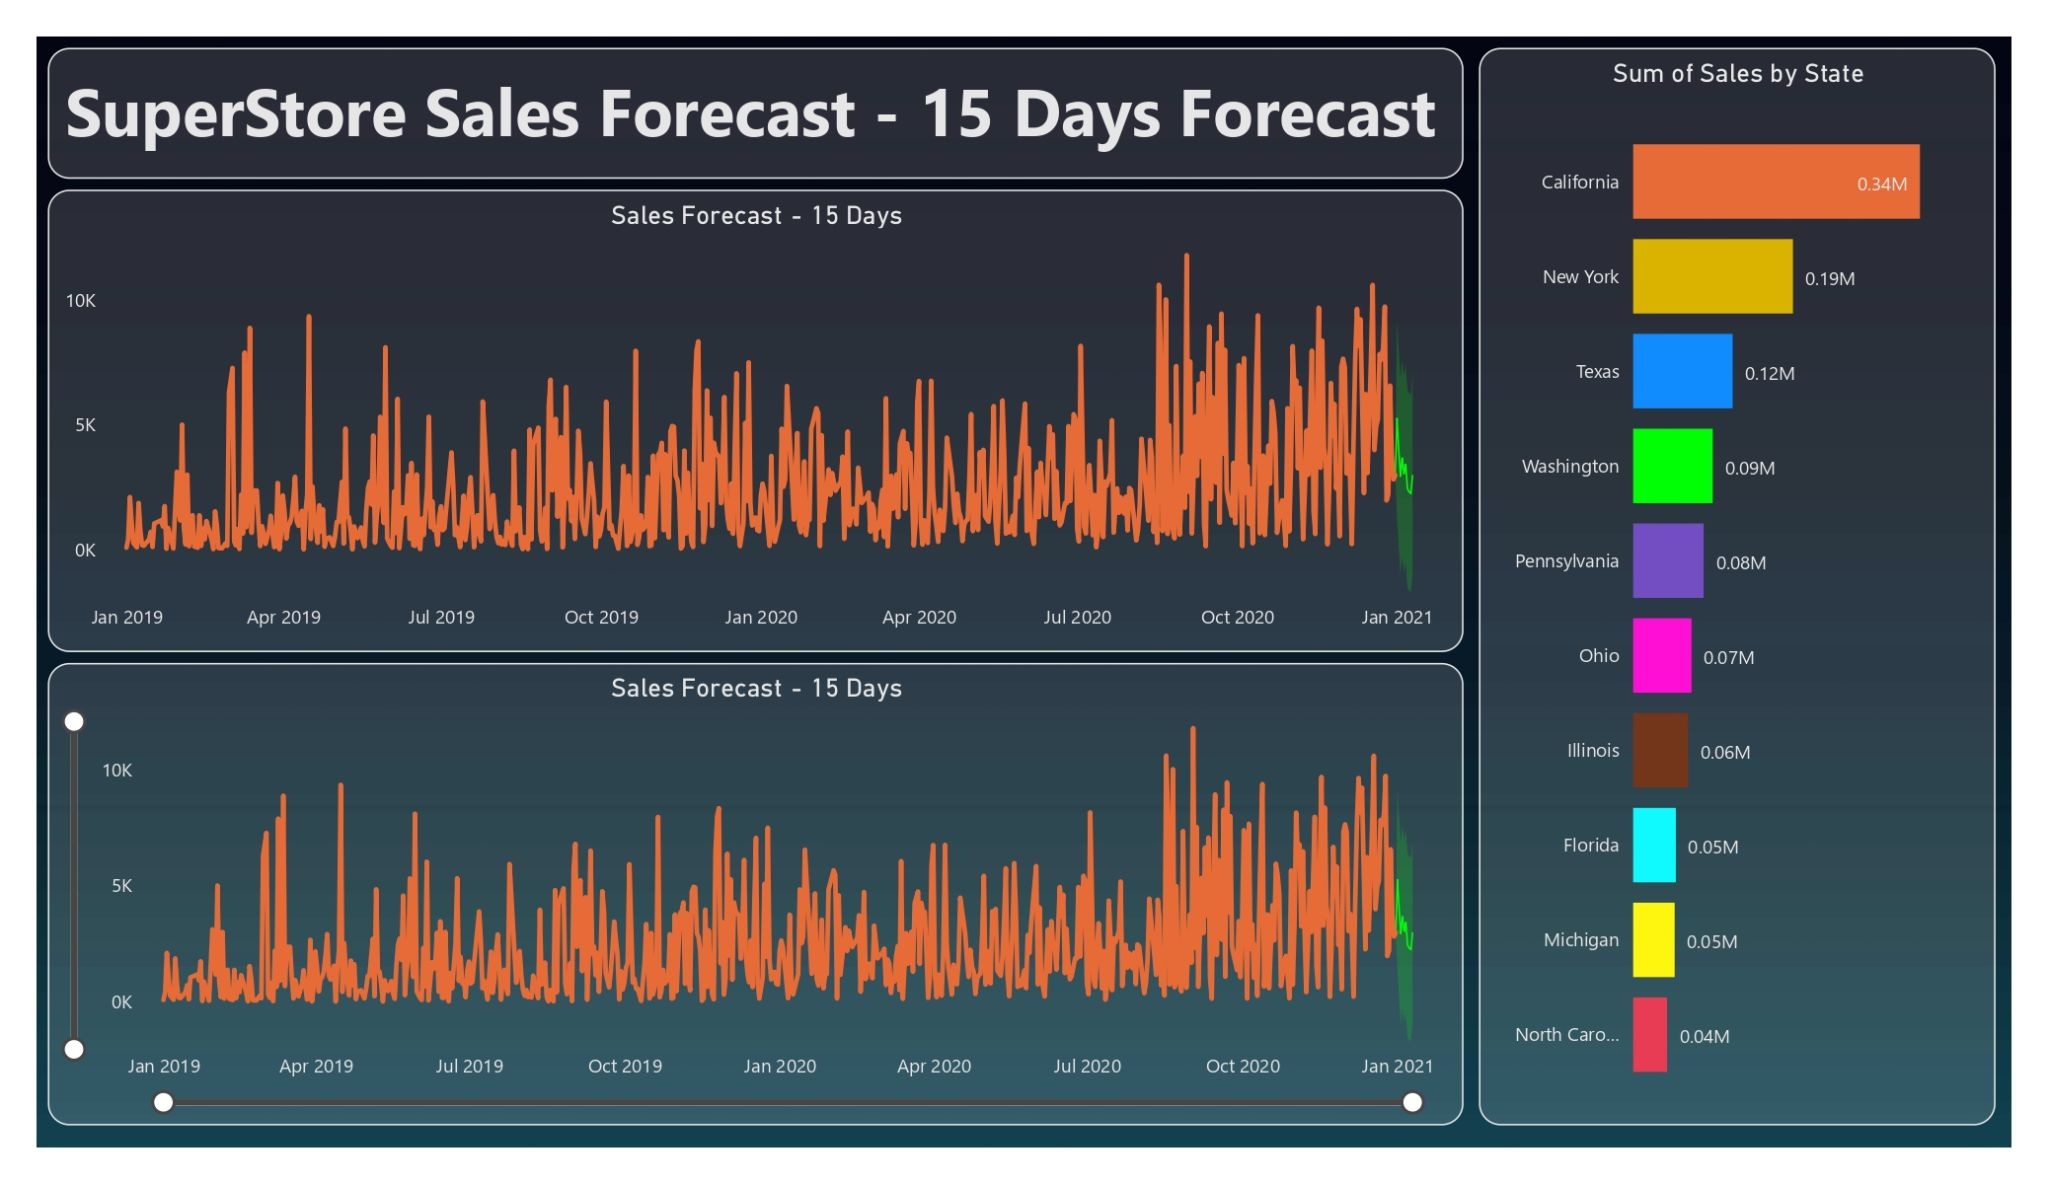

The page's visual inventory and layout, read from the dashboard file:
{"tool":"powerbi","page":{"name":"Sales Forecasr","canvas":[1280,720],"ordinal":1},"visuals":[{"type":"lineChart","title":"Sales Forecast - 15 Days","fields":{"Category":["SuperStore_Sales_Dataset.Order Date"],"Y":["Sum(SuperStore_Sales_Dataset.Sales)"]},"box":[6.9,98.7,918,300],"z":0},{"type":"textbox","box":[6.9,6.9,918,85],"z":1000},{"type":"lineChart","title":"Sales Forecast - 15 Days","fields":{"Category":["SuperStore_Sales_Dataset.Order Date"],"Y":["Sum(SuperStore_Sales_Dataset.Sales)"]},"box":[6.9,405.8,918.6,300.3],"z":2000},{"type":"clusteredBarChart","fields":{"Category":["SuperStore_Sales_Dataset.State"],"Y":["Sum(SuperStore_Sales_Dataset.Sales)"]},"box":[935.1,6.9,345.5,699.2],"z":3000}]}

Visuals, with their boxes in screenshot pixels (x1, y1, x2, y2), scaled from the page's 1280x720 canvas onto the 2048x1184 screenshot:
"Sales Forecast - 15 Days" lineChart: box(11, 162, 1480, 656)
textbox: box(11, 11, 1480, 151)
"Sales Forecast - 15 Days" lineChart: box(11, 667, 1481, 1161)
clusteredBarChart - SuperStore_Sales_Dataset.State x Sum(SuperStore_Sales_Dataset.Sales): box(1496, 11, 2047, 1161)
